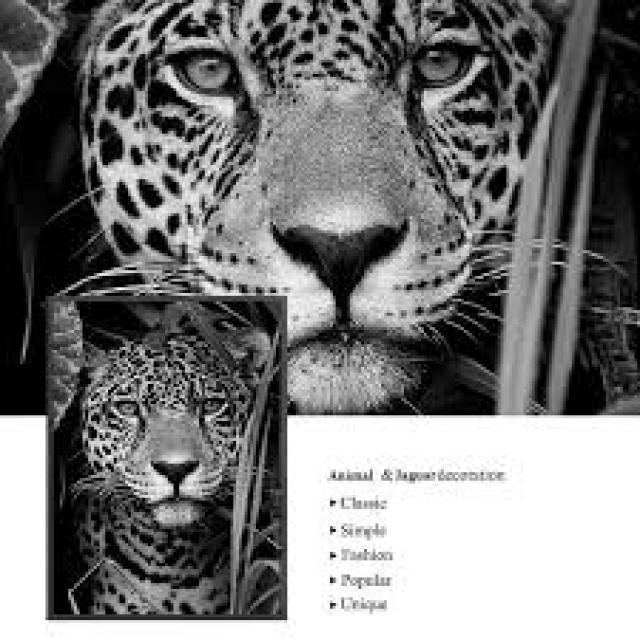Jaguar: (85, 0, 495, 384), (85, 347, 242, 620)
